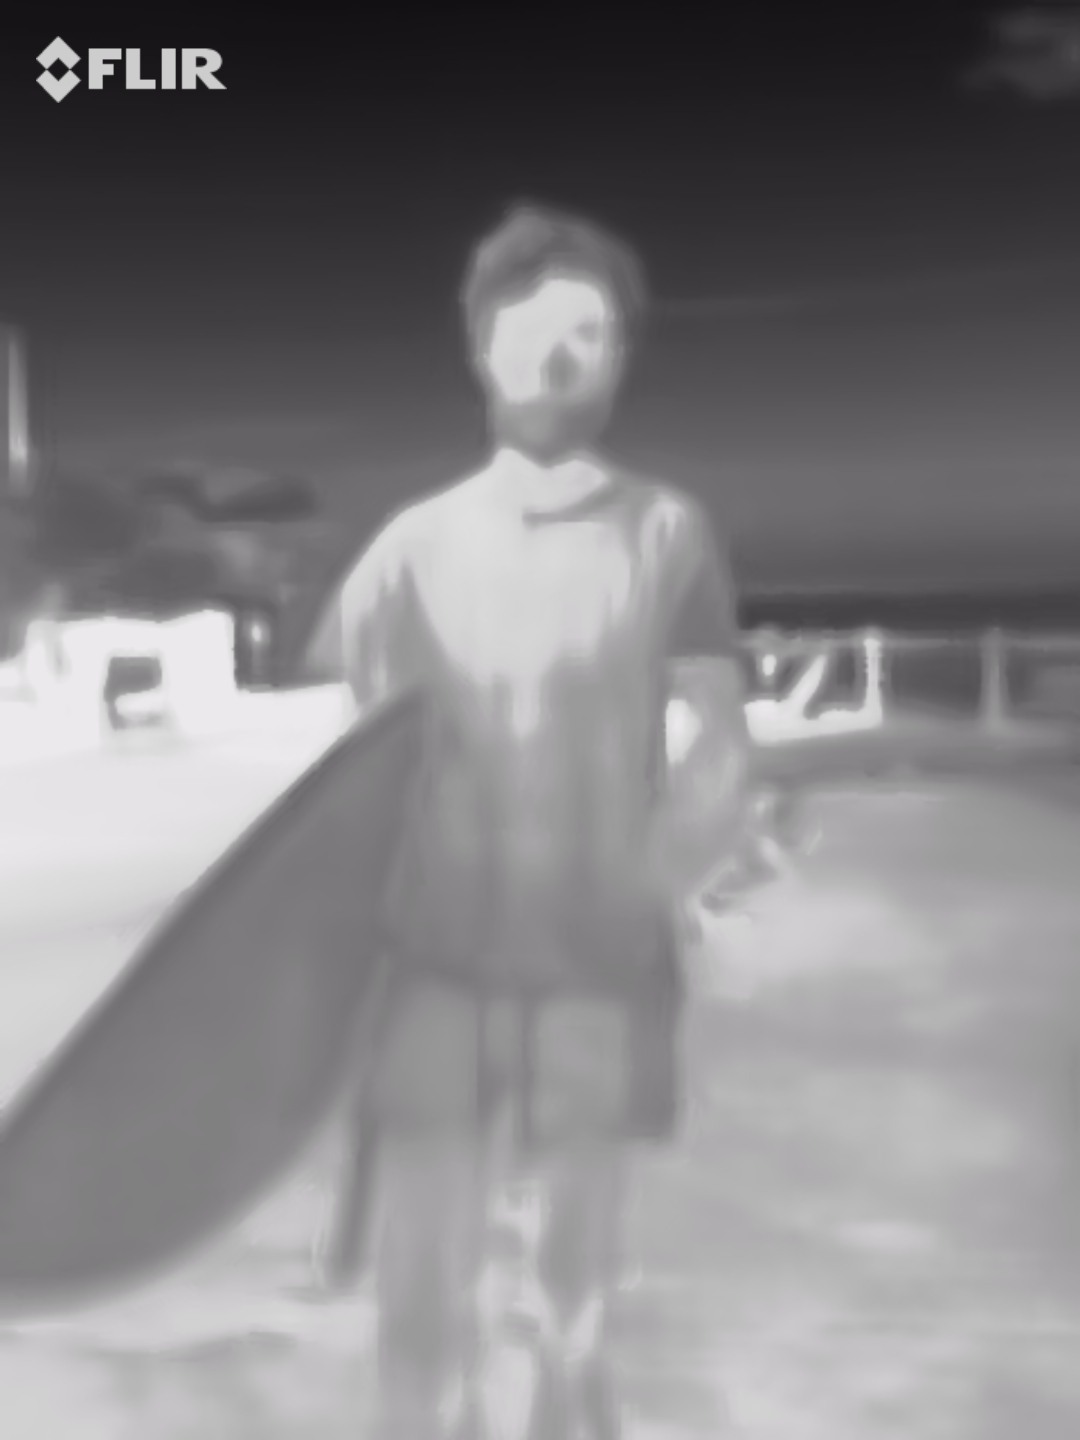head: (460, 195, 642, 474)
